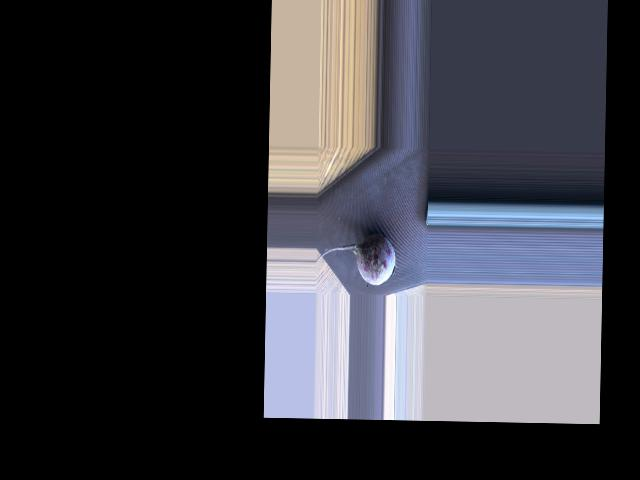beet: (316, 232, 395, 285)
